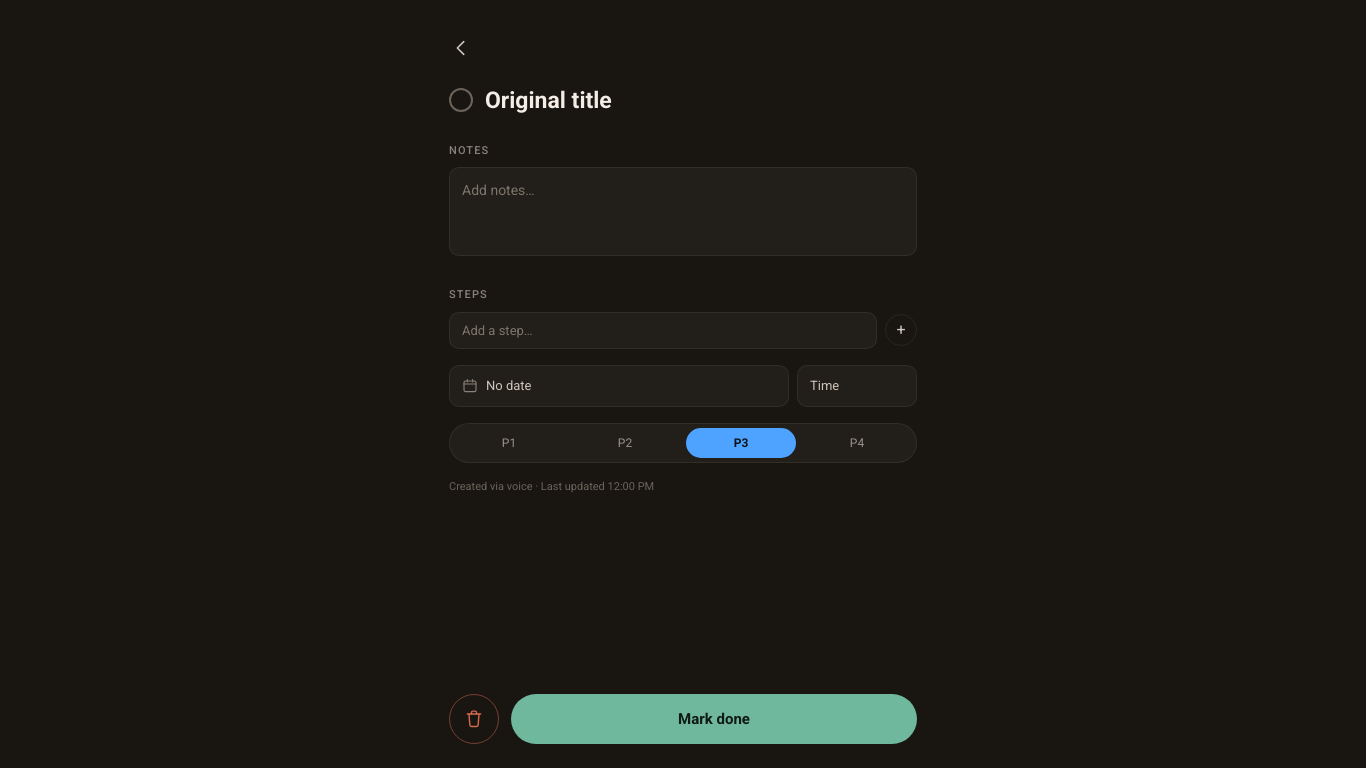
Test case: EditTaskSheet › a failing Mark done keeps the sheet open and surfaces the error
Click the button "Mark done".
click(714, 719)  # box [511,694,917,744]
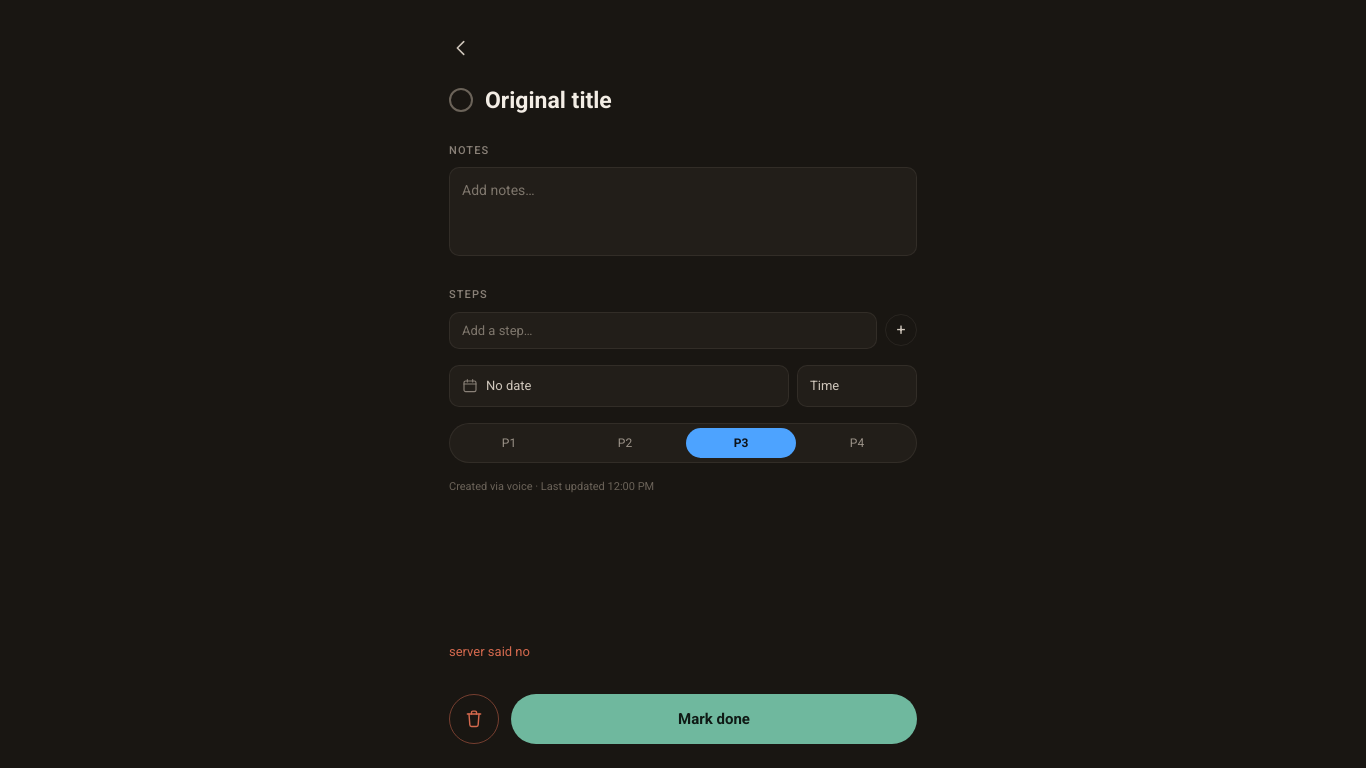
Result: the message reads "server said no" at [449,644,530,659]
